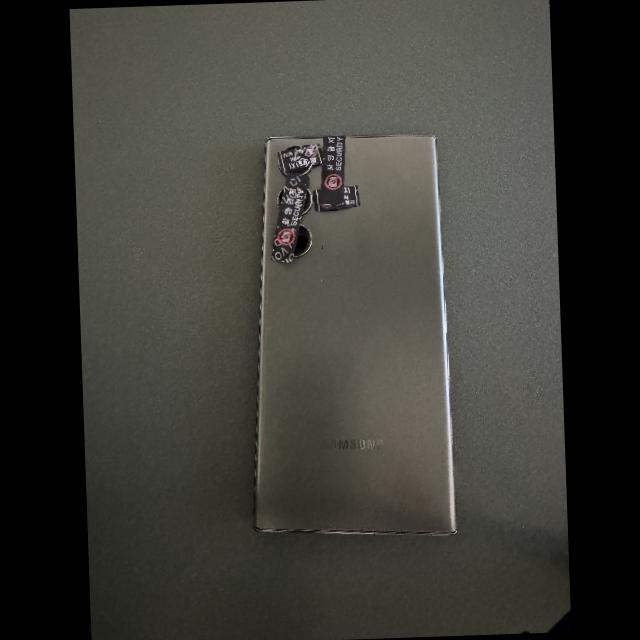lens: (294, 224, 311, 257), (287, 165, 312, 174), (303, 191, 312, 213)
phone: (254, 134, 456, 534)
sticker: (270, 176, 309, 263), (320, 136, 345, 204), (276, 143, 325, 173), (311, 184, 361, 212)
